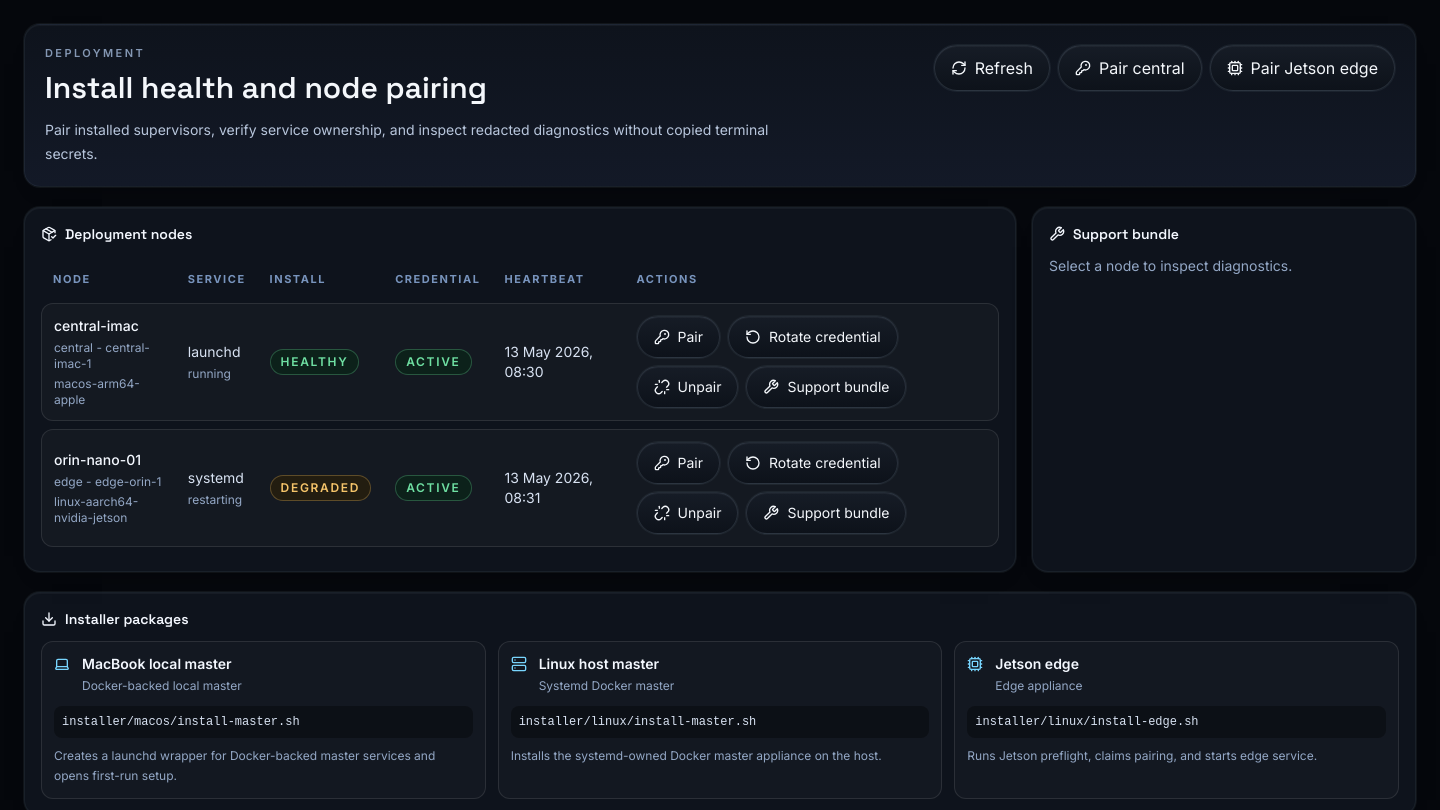
DeploymentPage › creates one-time central pairing material without a copied token flow
Click the button "Pair central". click: (1130, 68)
box: [1058,45,1202,91]
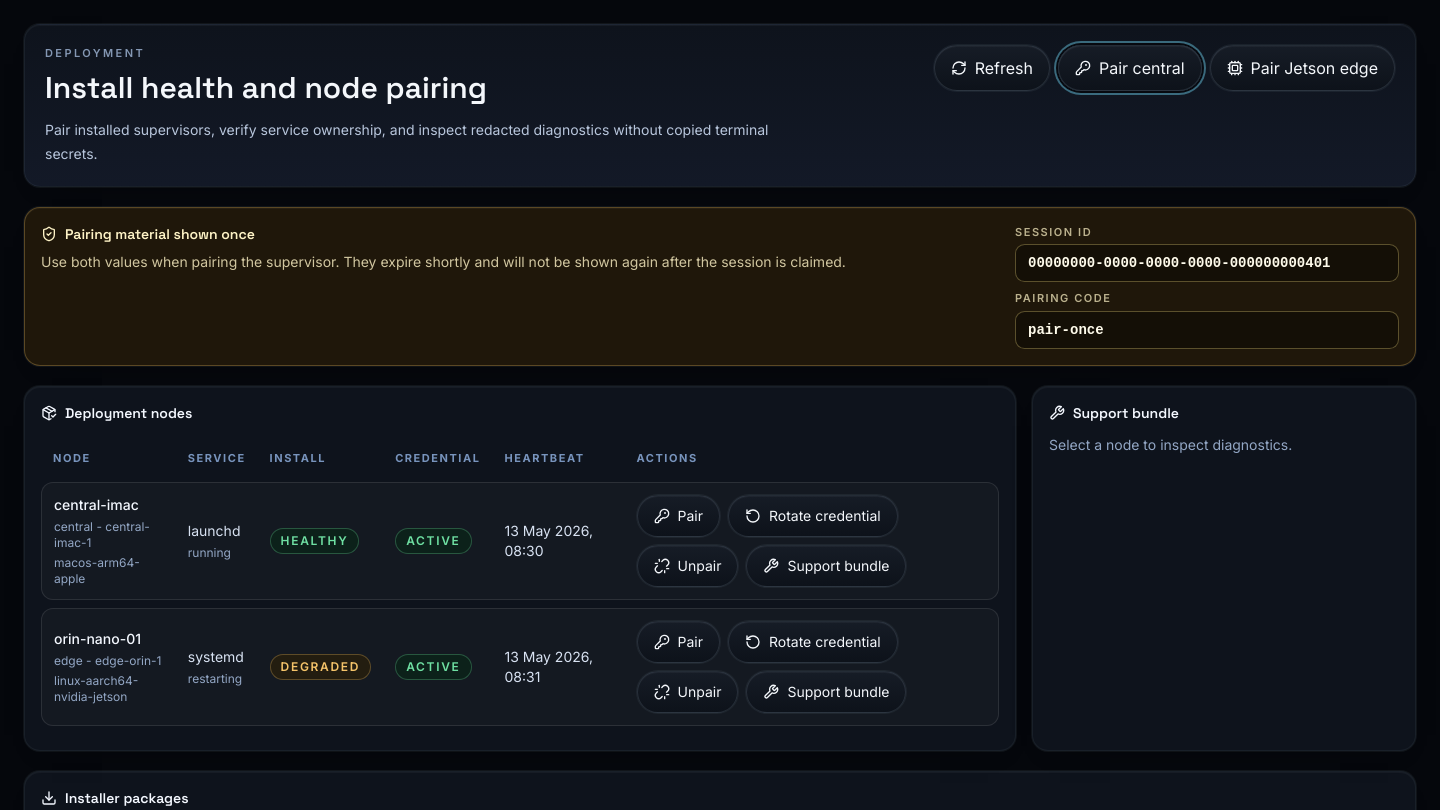
Check: the heading "Pairing material shown once" is shown, box [65,224,255,244]
Check: the text "00000000-0000-0000-0000-000000000401" is shown, box [1015,244,1399,282]
Check: the text "pair-once" is shown, box [1015,310,1399,348]
